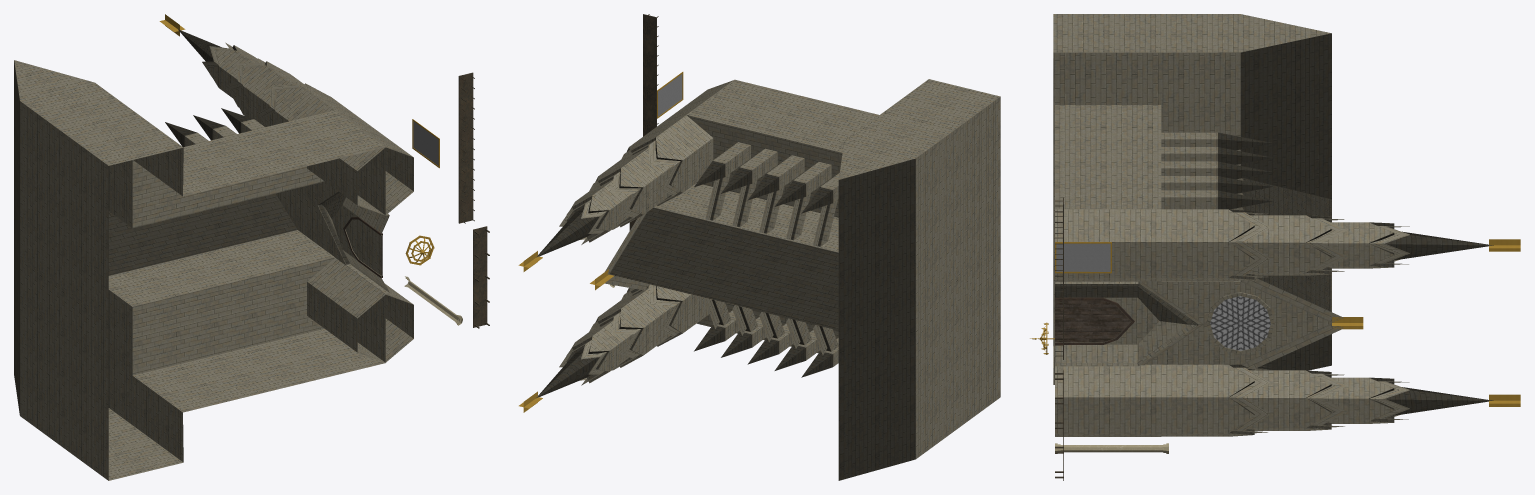
The model's file is BigThings.fbx.
The picture shows the model from 3 angles, left to right: view 1: azimuth 30°, elevation 25°; view 2: azimuth 150°, elevation 25°; view 3: azimuth 270°, elevation 25°; orthographic projection. The views are drawn at different scales.
Visible parts, largest first — view 1: GrandCathedral, LongTable_GreatHall, LongTable, LargePainting, HallPillar; view 2: GrandCathedral, LongTable_GreatHall, LargePainting; view 3: GrandCathedral, LargePainting, HallPillar, LongTable_GreatHall.
Boxes of the visible parts, box(x1,y1,x2,y2) form: GrandCathedral: box(14, 14, 413, 480); LongTable_GreatHall: box(458, 72, 474, 223); LongTable: box(473, 226, 489, 328); LargePainting: box(412, 119, 439, 168); HallPillar: box(404, 276, 462, 325); GrandCathedral: box(518, 79, 1000, 480); LongTable_GreatHall: box(643, 14, 658, 136); LargePainting: box(657, 72, 683, 118); GrandCathedral: box(1053, 14, 1520, 436); LargePainting: box(1055, 242, 1111, 273); HallPillar: box(1055, 443, 1168, 453); LongTable_GreatHall: box(1055, 197, 1063, 359).
Bounding box in the file's own units: 4086 × 3209 × 4298.
